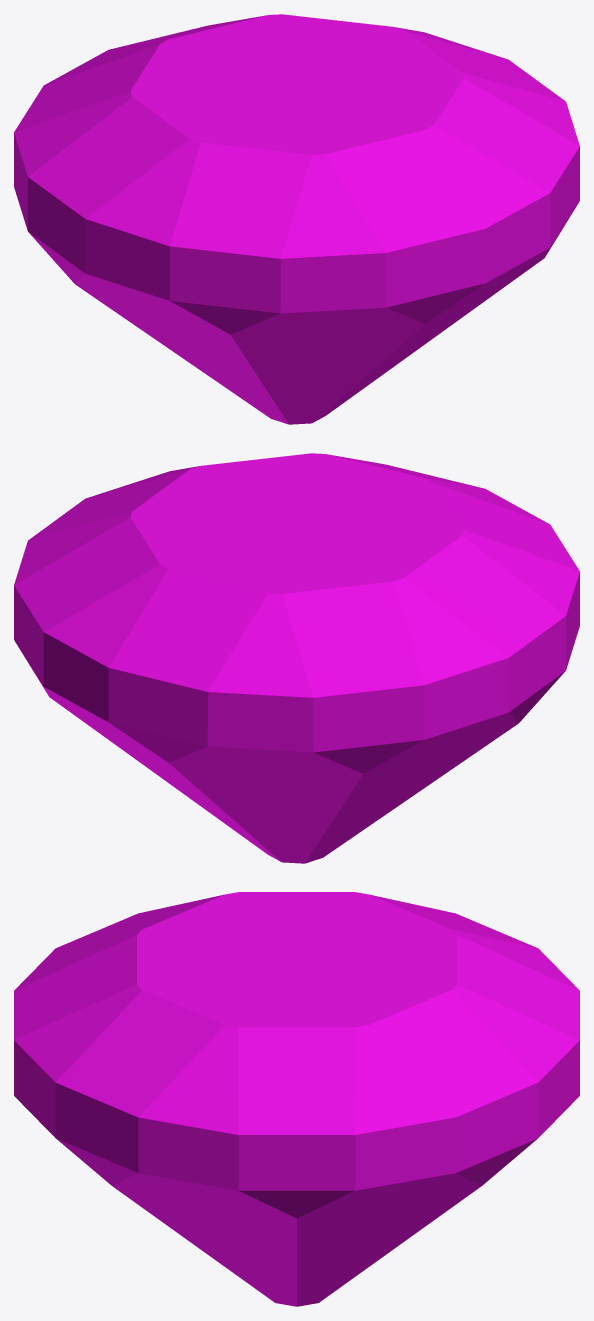
The model's file is gem.glb.
The picture shows the model from 3 angles, top to bottom: view 1: azimuth 30°, elevation 25°; view 2: azimuth 150°, elevation 25°; view 3: azimuth 270°, elevation 25°; orthographic projection.
Visible parts, largest first — view 1: Gem; view 2: Gem; view 3: Gem.
Part boxes in pixels (left/top/right/bottom): Gem: left=14, top=14, right=579, bottom=424; Gem: left=14, top=453, right=579, bottom=863; Gem: left=14, top=892, right=579, bottom=1306.
Size of the model in its own units: 0.4606 by 0.3 by 0.4606.
